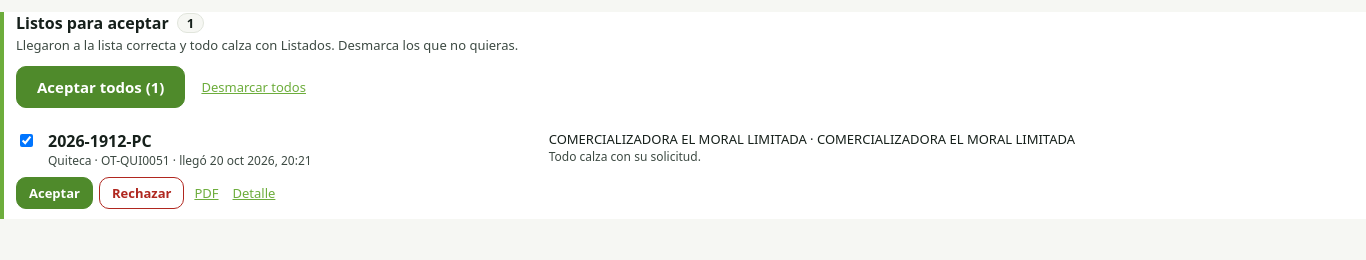
Test: ColaDeTrabajo › un fallo al aceptar sale bajo su fila
Click the button "Aceptar": (54, 193) [16,177,93,209]
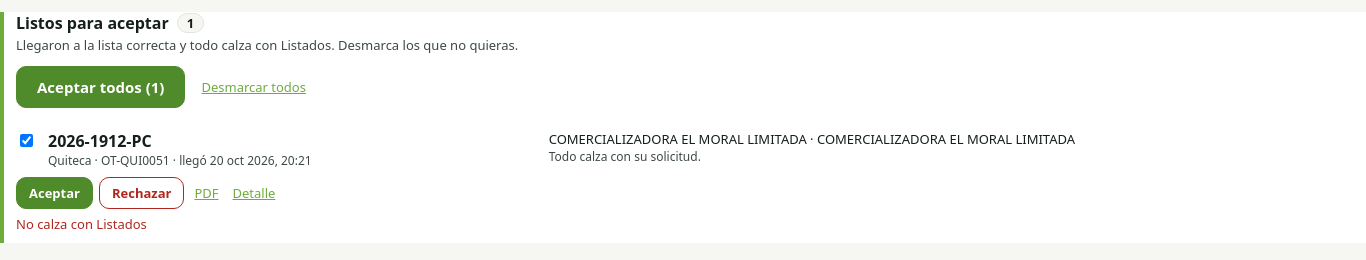
Expected: the text "No calza con Listados" is shown, [16,215,147,233]
